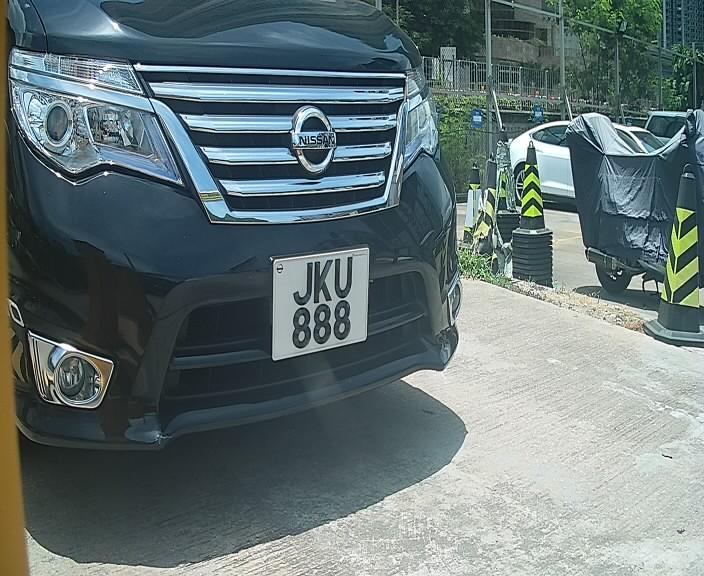License Plate: (268, 235, 371, 371)
